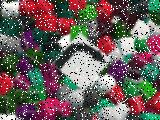Right: (53, 33, 111, 91)
